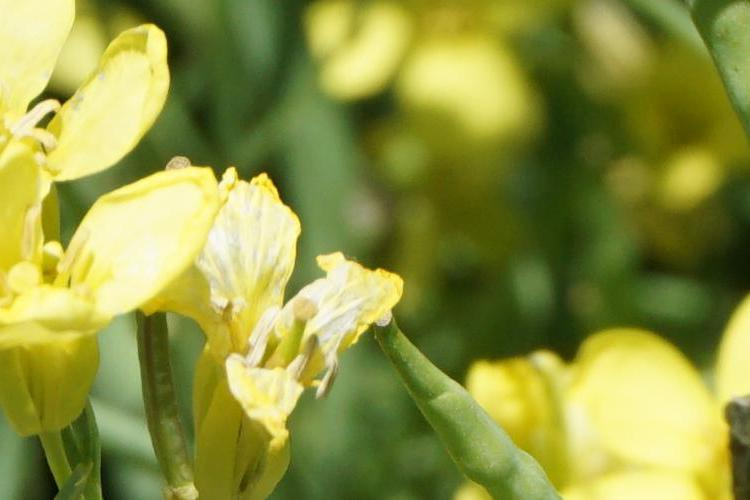yellow: (2, 47, 201, 436), (162, 180, 352, 478)
